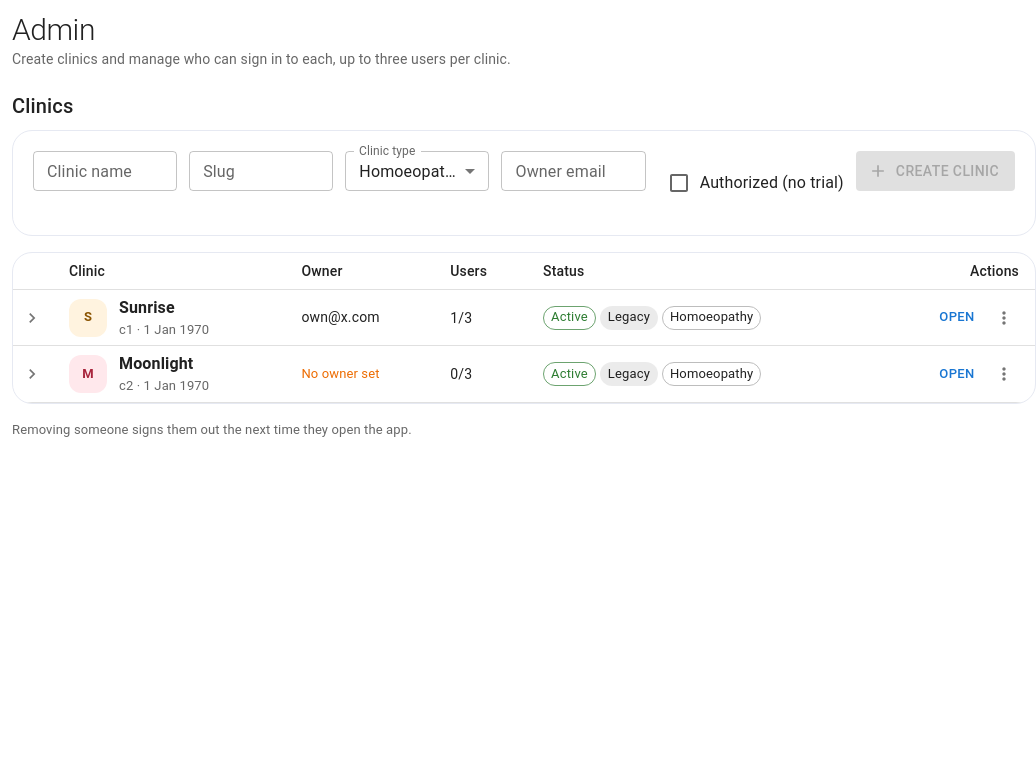
Test case: blocks adding an email that belongs to another clinic
The image size is (1036, 780).
Click the button named "Show users of Moonlight" at (32, 374), box x1=17 y1=359 x2=47 y2=389
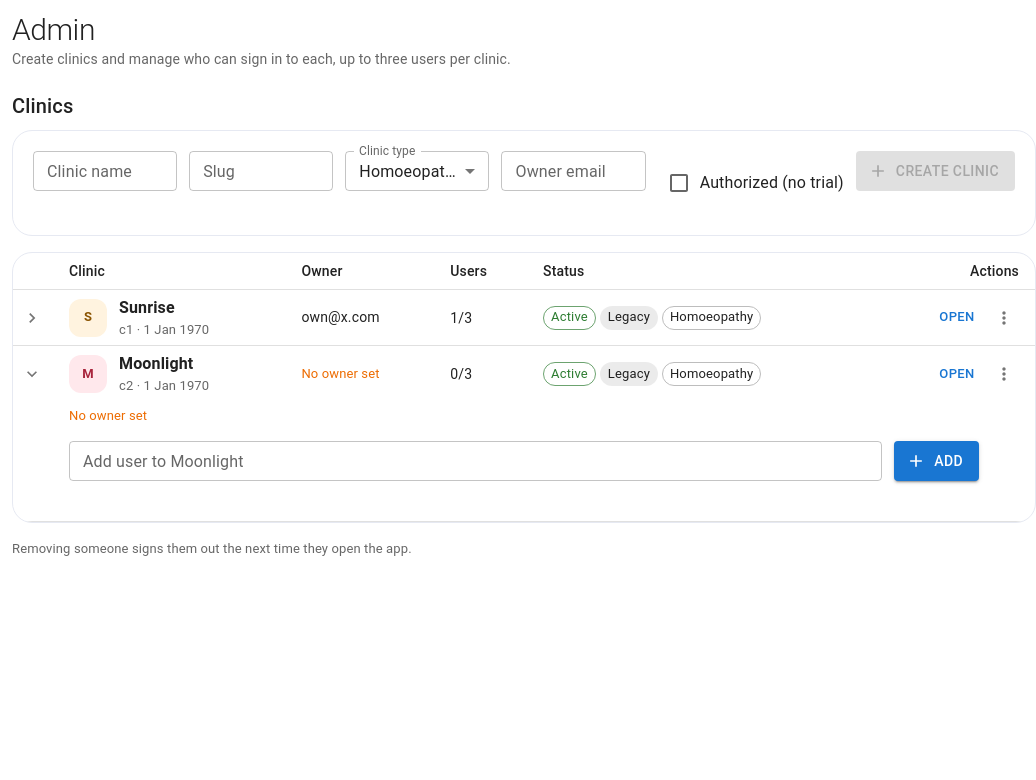
Type "own@x.com" into the field labelled "Add user to Moonlight" at (476, 461), box x1=69 y1=441 x2=882 y2=481
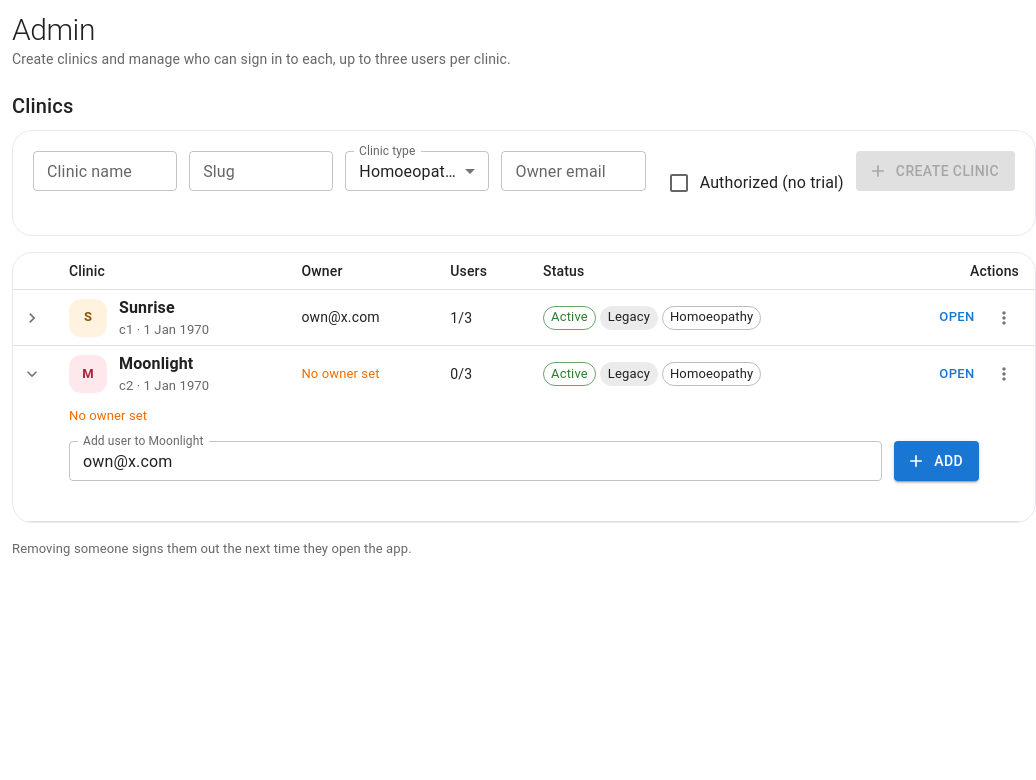
Click the button with aria-label "Add to Moonlight" at (937, 461), box x1=894 y1=441 x2=979 y2=481
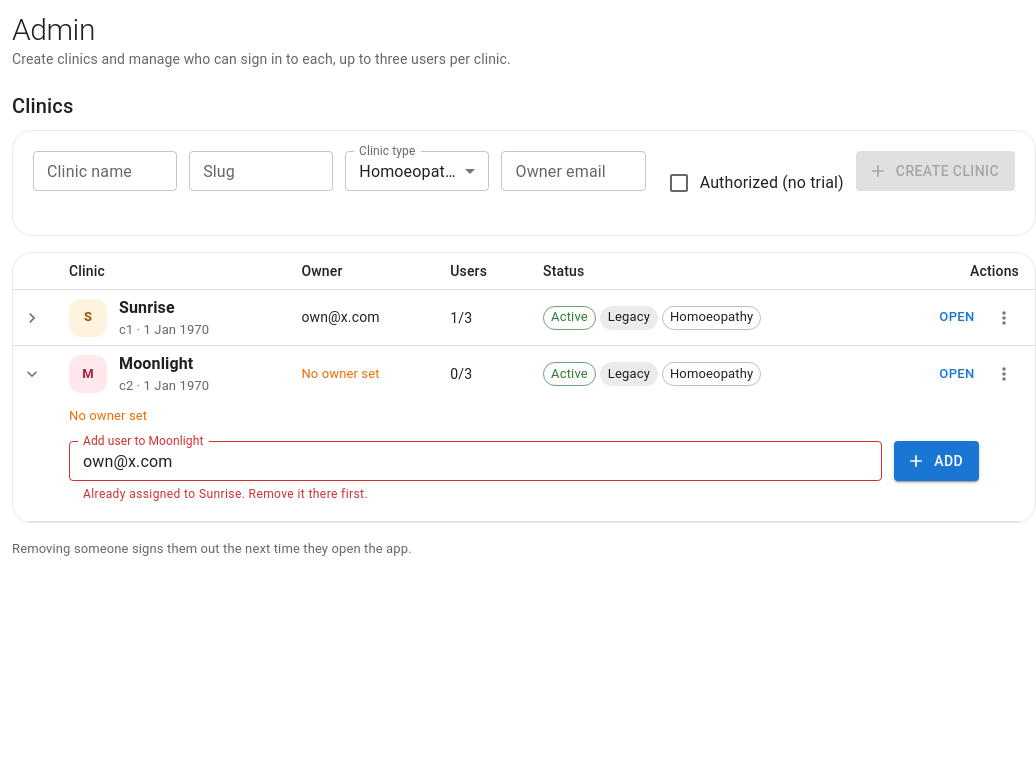
Expected: the text "Already assigned to Sunrise. Remove it there first." is shown, x1=83 y1=487 x2=368 y2=501
